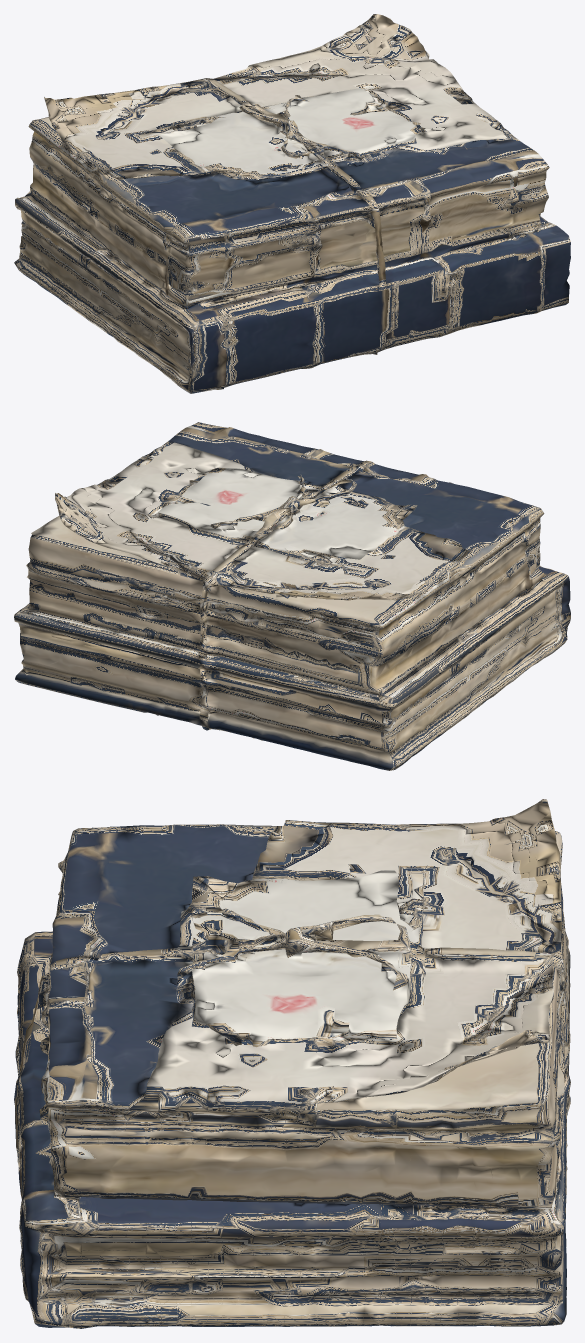
File: S1-09_ledger_volume_A.glb
3 renders of one model, top to bottom at view 1: azimuth 30°, elevation 25°; view 2: azimuth 150°, elevation 25°; view 3: azimuth 270°, elevation 25°, orthographic. The views are drawn at different scales.
Parts seen in each view (by area): view 1: geometry_0; view 2: geometry_0; view 3: geometry_0.
Part boxes in pixels (x1,y1,x2,y2): geometry_0: (14, 14, 570, 393); geometry_0: (14, 422, 570, 770); geometry_0: (14, 799, 570, 1328).
Bounding box in the file's own units: 0.419 × 0.1912 × 0.3441.
1 material, 1 textured.
